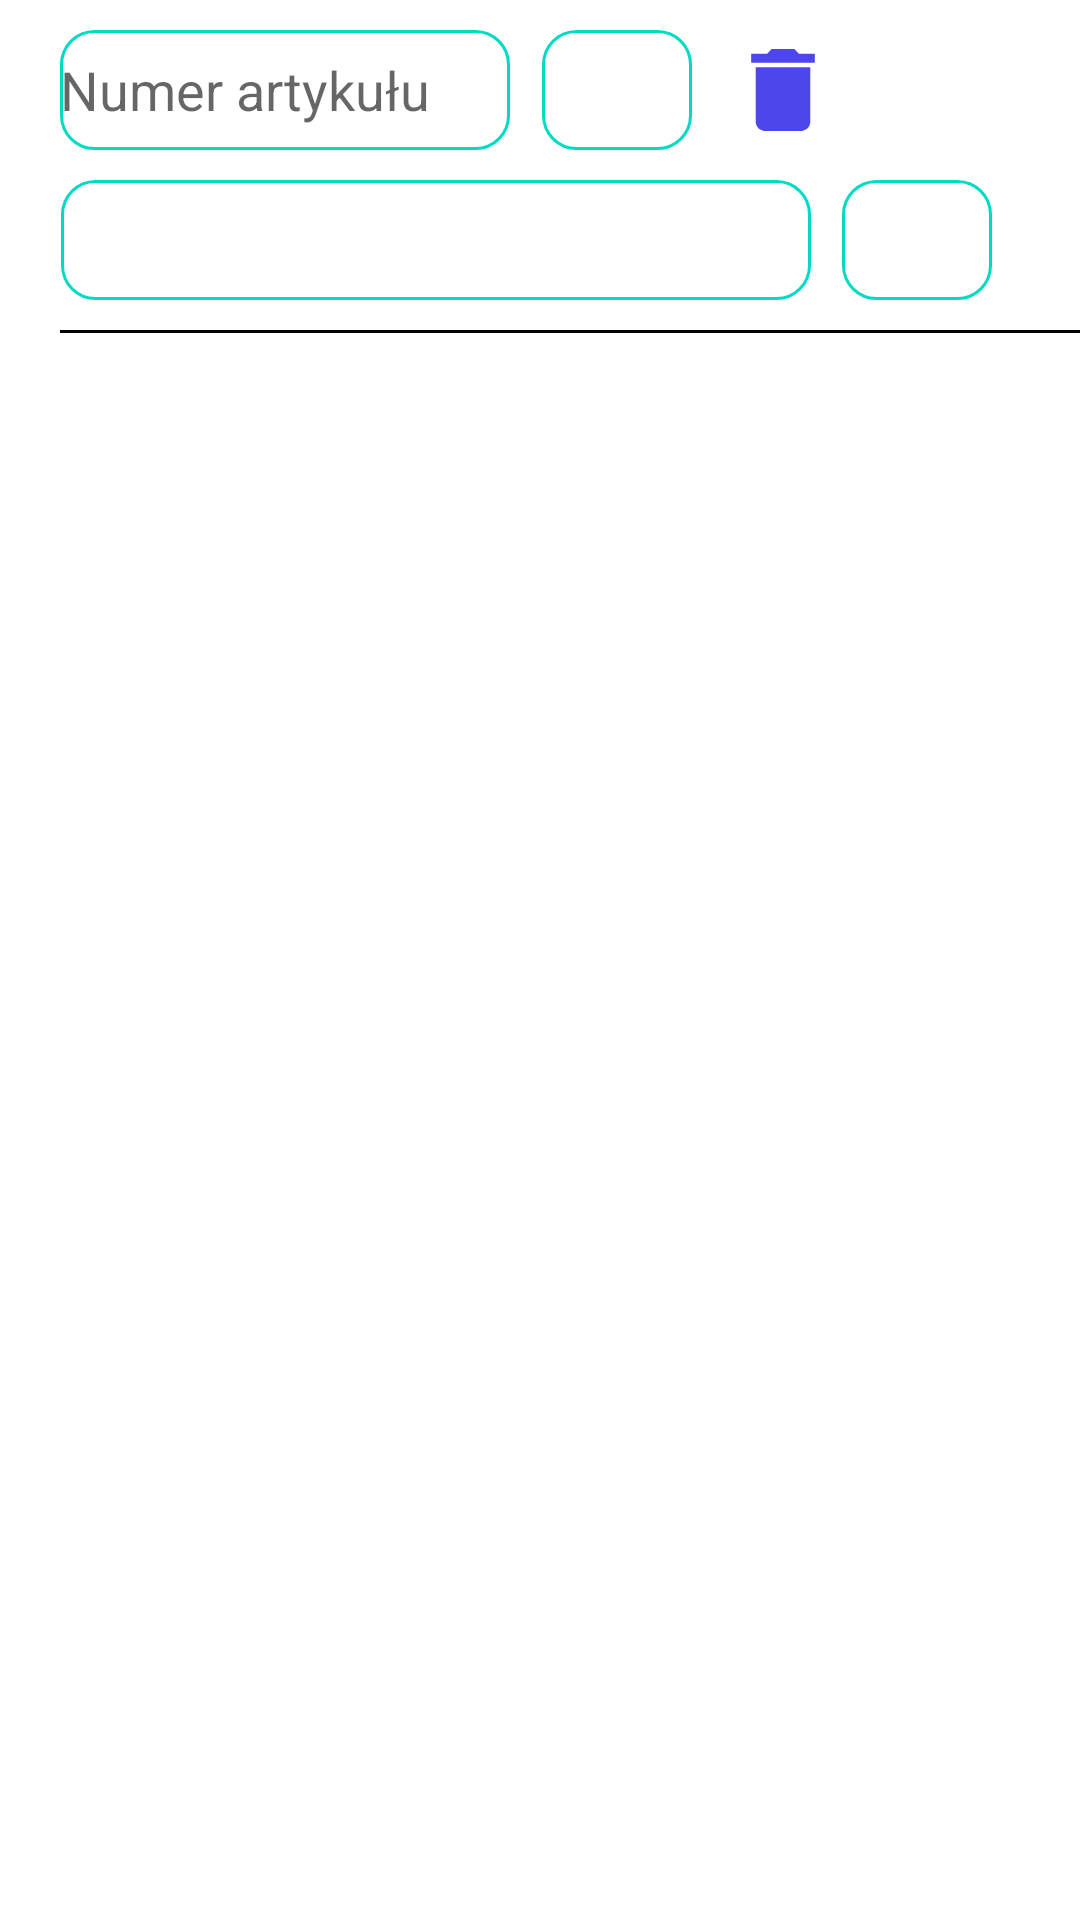

Named icons in this screenshot (1080 x 1920) and their centers, (x=x, y=y):
delate art: (x=783, y=90)
